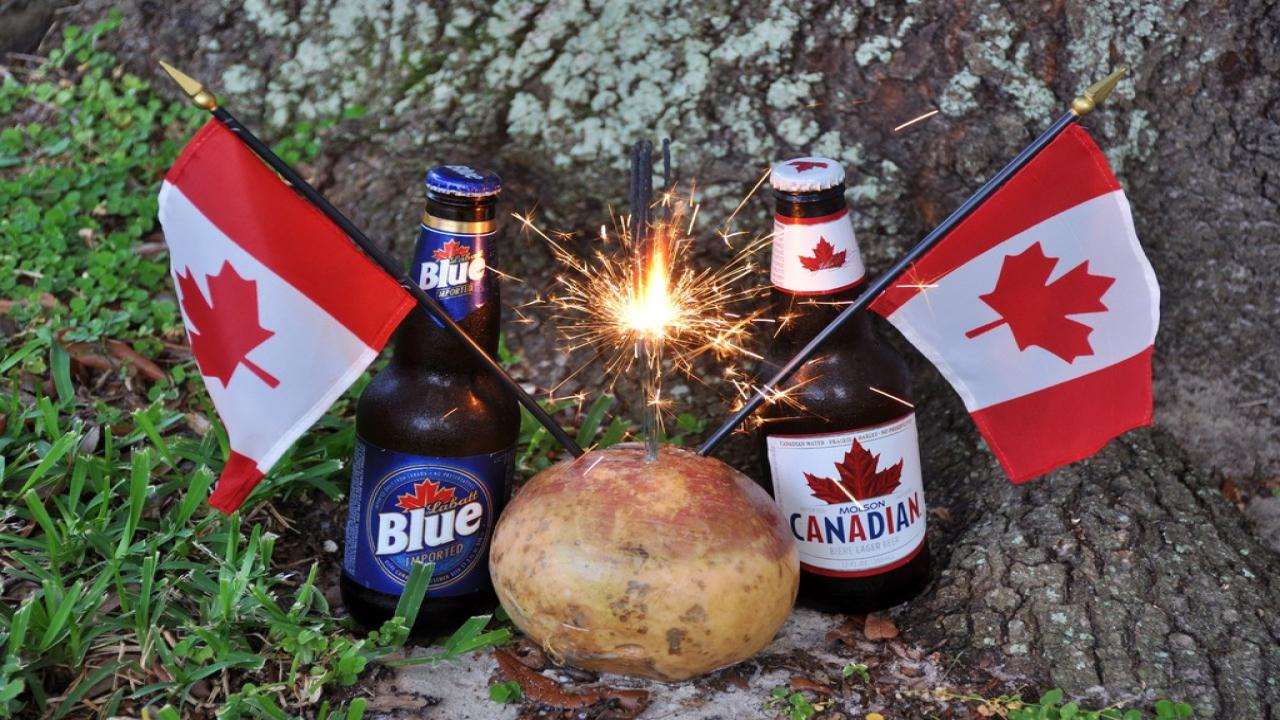bottle_cap: (766, 156, 850, 194), (422, 164, 502, 198)
